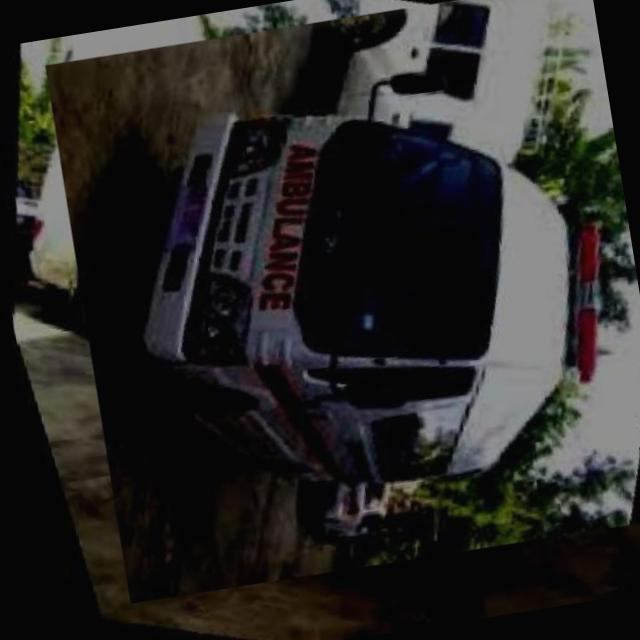emergency-vehicle: (50, 0, 640, 610)
